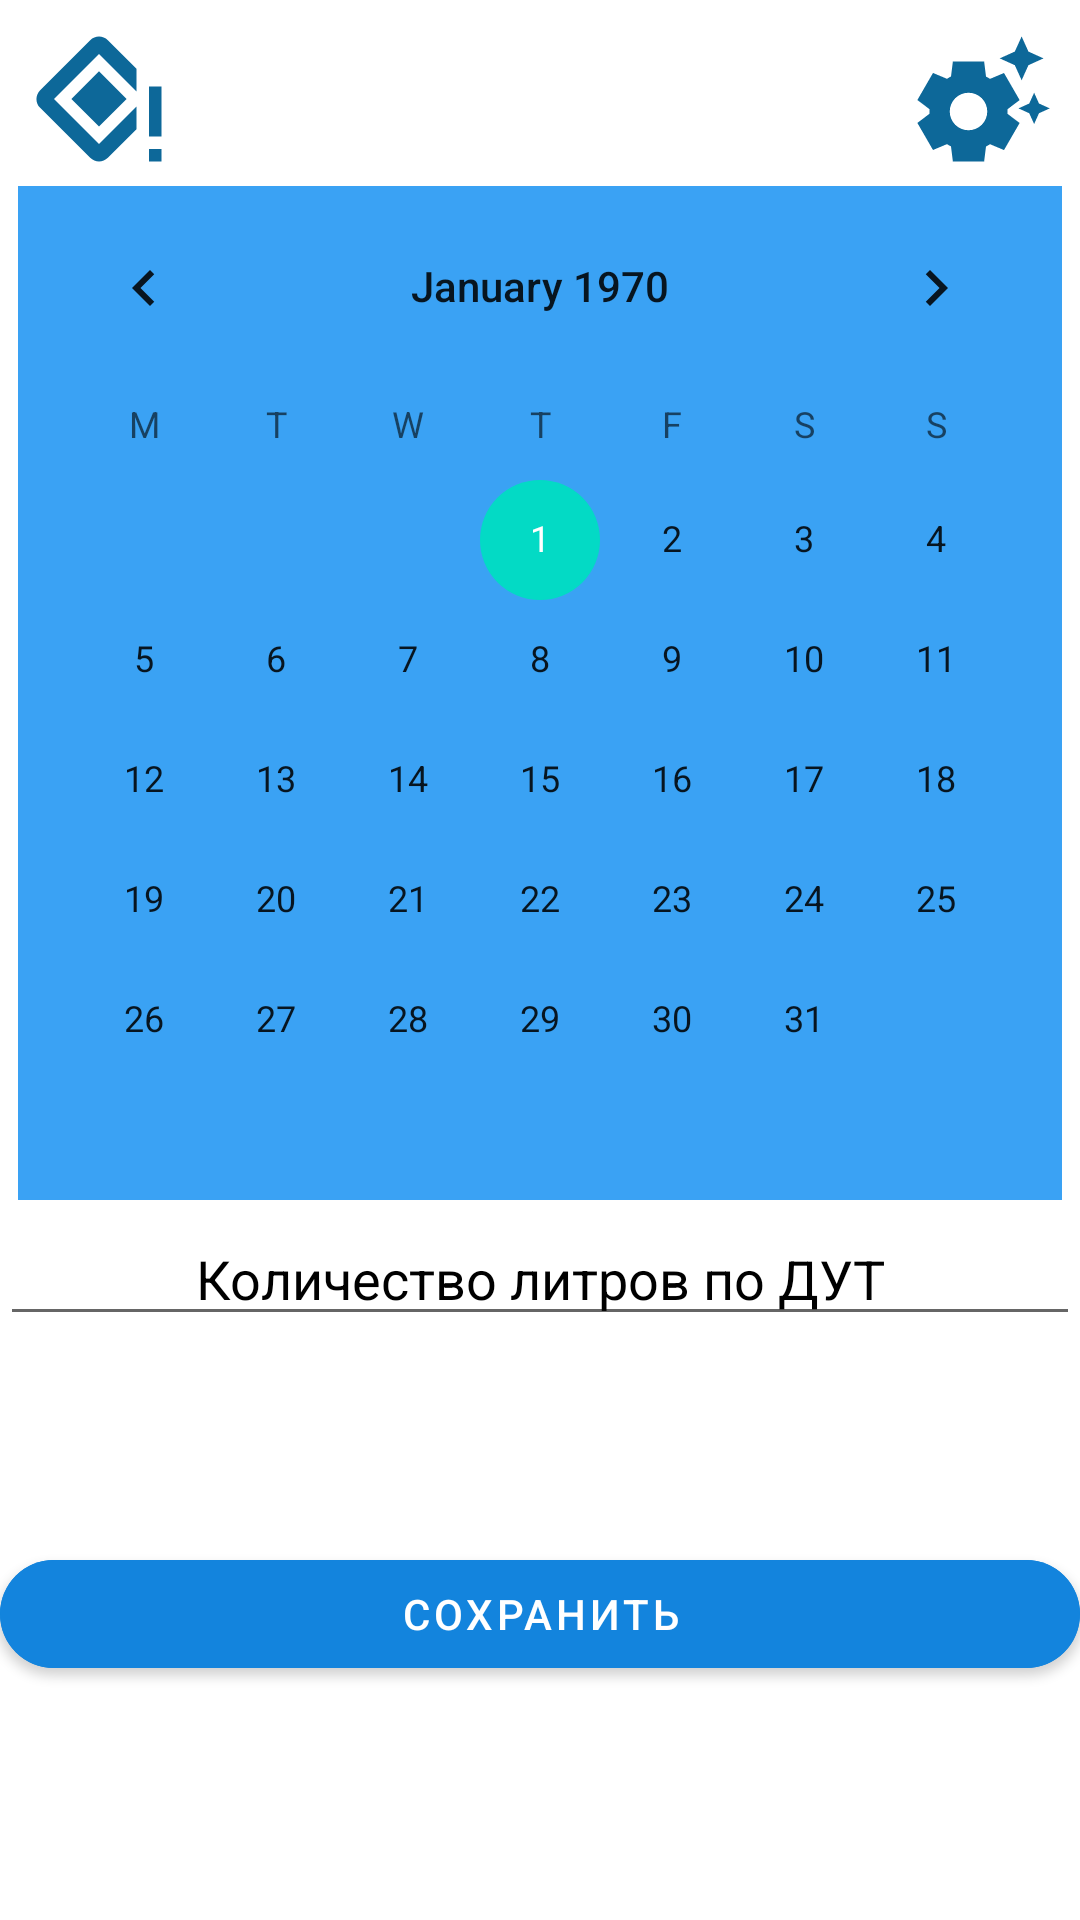

Screen size 1080px×1920px. Icon name, then its box in pixels as [left=x1, top=y1, right=x2, bottom=y2]:
settings: [left=917, top=36, right=1050, bottom=162]
